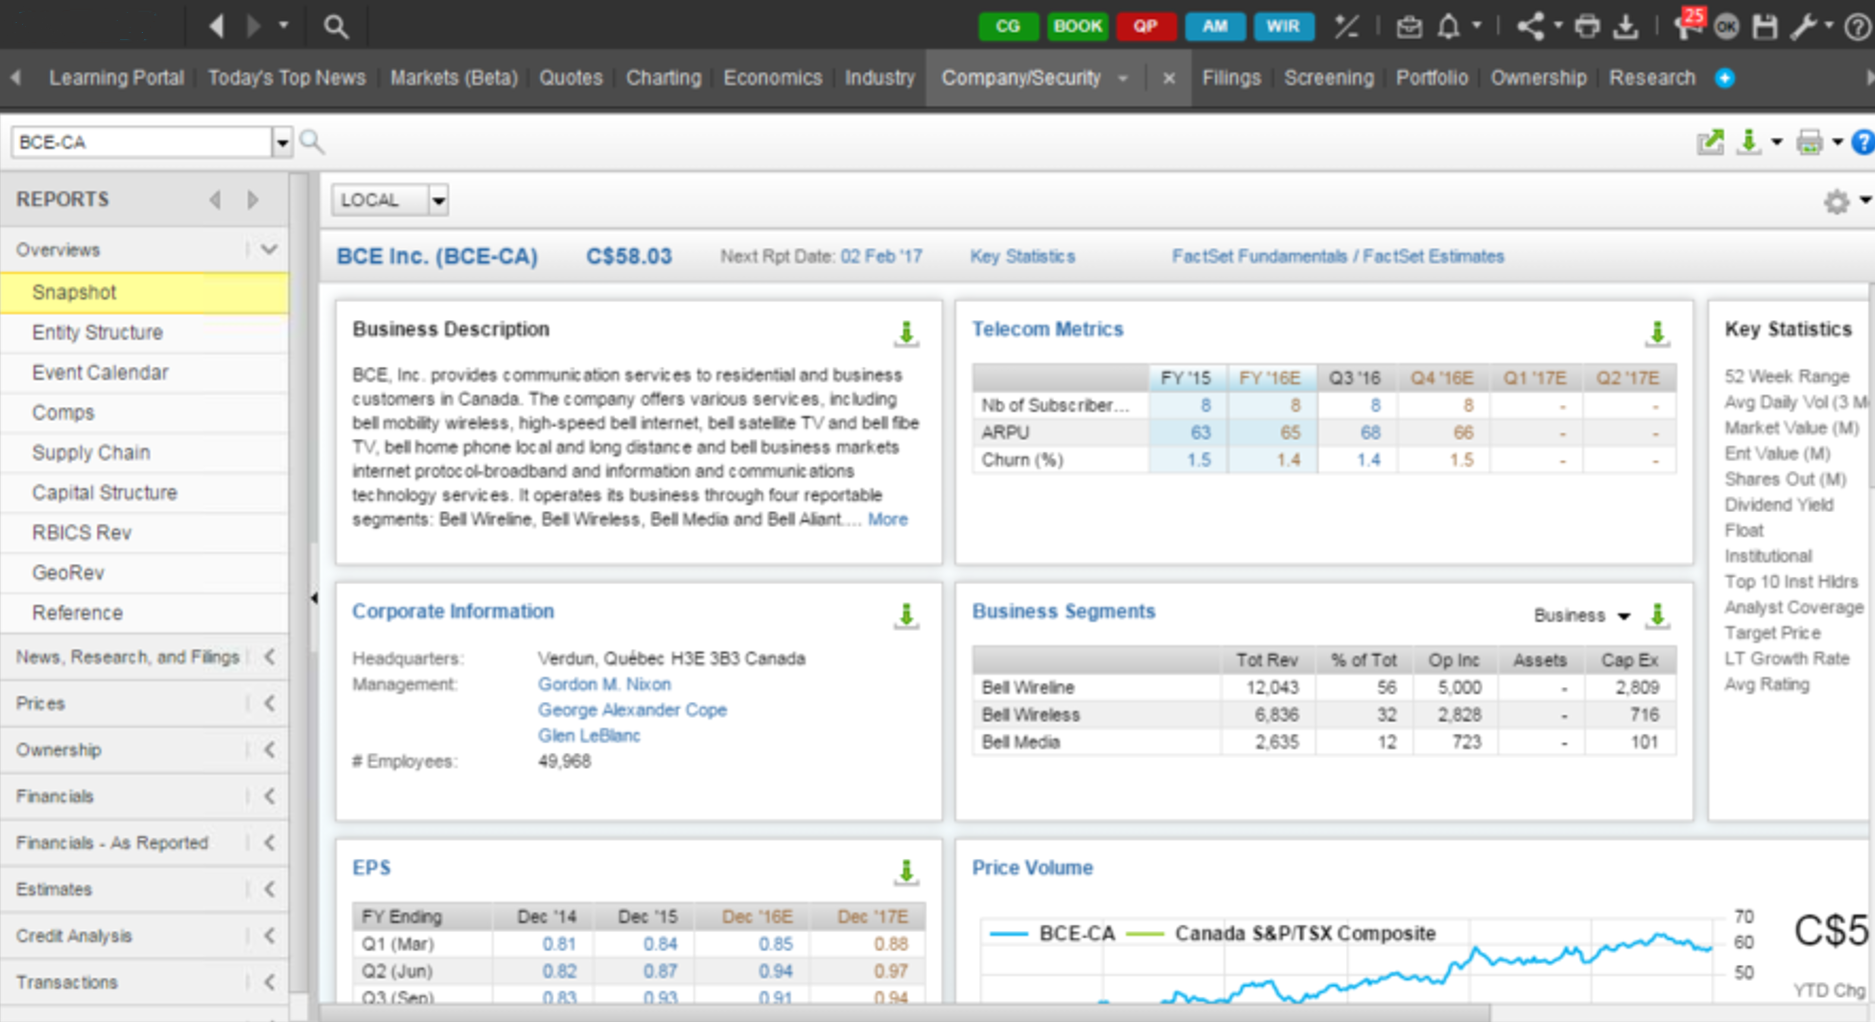block: (1, 172, 310, 1019), (1, 1, 1872, 112), (956, 302, 1696, 563), (955, 580, 1694, 821), (317, 172, 1874, 284), (333, 300, 941, 565), (337, 581, 943, 823), (1, 112, 1872, 171), (335, 837, 944, 1001), (1706, 300, 1875, 819)
button: (1256, 14, 1318, 42), (979, 13, 1039, 40), (1048, 14, 1109, 42), (1117, 13, 1178, 40), (1185, 16, 1247, 43)
chart: (958, 839, 1875, 1004)
form: (9, 125, 327, 164), (330, 184, 451, 216)
icon: (205, 5, 266, 47), (306, 6, 360, 47), (3, 49, 34, 102), (1637, 313, 1679, 352), (252, 821, 289, 863), (1606, 8, 1646, 47), (204, 186, 260, 214), (1148, 60, 1190, 97), (254, 729, 289, 773), (250, 868, 289, 907), (250, 963, 289, 1002), (1511, 8, 1550, 45), (1779, 8, 1818, 45), (1387, 11, 1428, 47), (1669, 11, 1710, 47), (250, 918, 288, 955), (1638, 599, 1677, 636), (269, 6, 305, 47), (253, 685, 288, 725), (291, 125, 328, 161), (1818, 184, 1854, 223), (254, 777, 289, 816), (308, 544, 321, 652), (1840, 8, 1874, 47), (1744, 10, 1781, 45), (1326, 11, 1368, 42), (892, 597, 925, 633), (891, 852, 924, 889), (255, 637, 286, 676), (1711, 11, 1745, 45), (1435, 10, 1467, 45), (1573, 8, 1606, 43), (1794, 125, 1827, 160), (1109, 60, 1141, 94), (1733, 126, 1766, 160), (892, 317, 922, 350), (1696, 128, 1727, 159), (1767, 126, 1794, 159), (1469, 10, 1495, 44), (254, 235, 283, 266), (1818, 6, 1840, 45), (1855, 181, 1875, 222), (1827, 123, 1849, 161), (1854, 123, 1875, 161), (1550, 8, 1573, 42), (1613, 600, 1636, 632), (428, 185, 449, 216), (1711, 68, 1738, 91), (273, 126, 291, 159)
table: (973, 361, 1677, 474), (974, 643, 1677, 755), (352, 902, 927, 1004)
